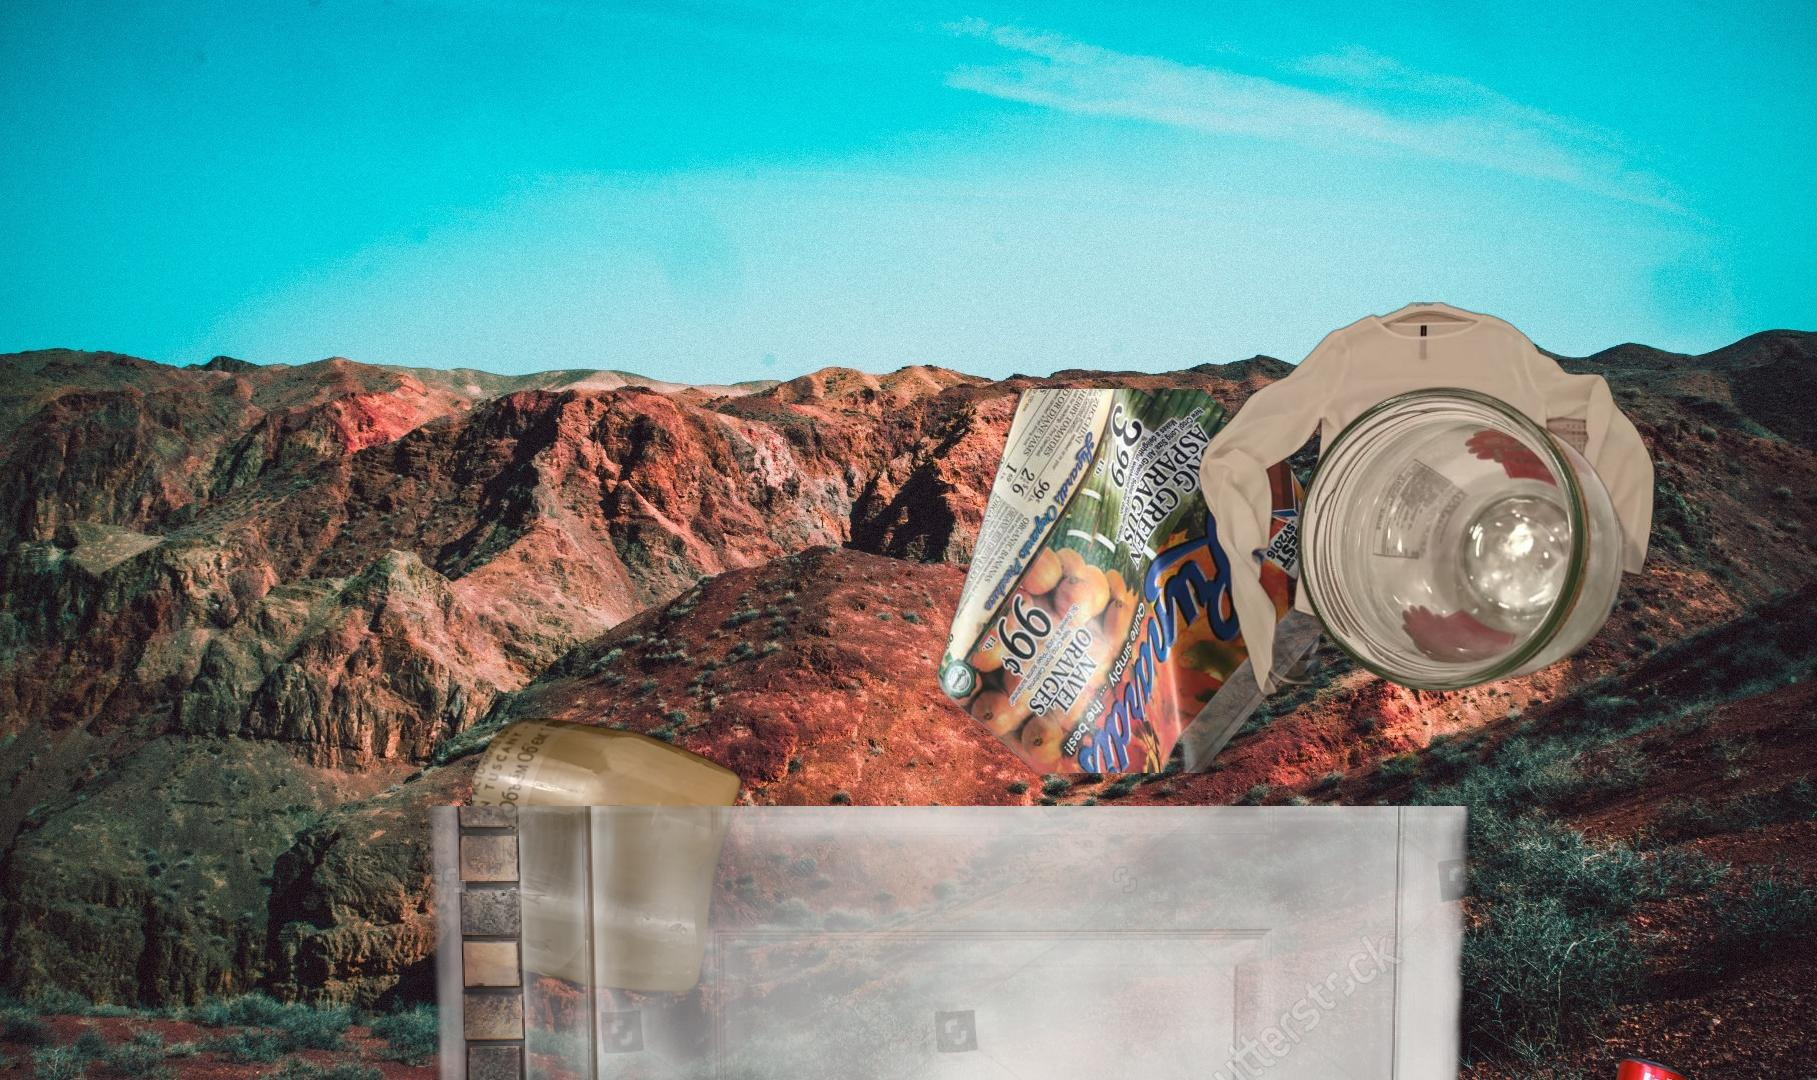clothes: (1195, 302, 1660, 702)
glass: (1291, 383, 1651, 696)
metal-cans: (1583, 1050, 1692, 1080)
paper: (930, 390, 1434, 773)
plastic-bottles: (472, 717, 745, 998)
trashbox-cardboard: (374, 806, 1673, 1080)
